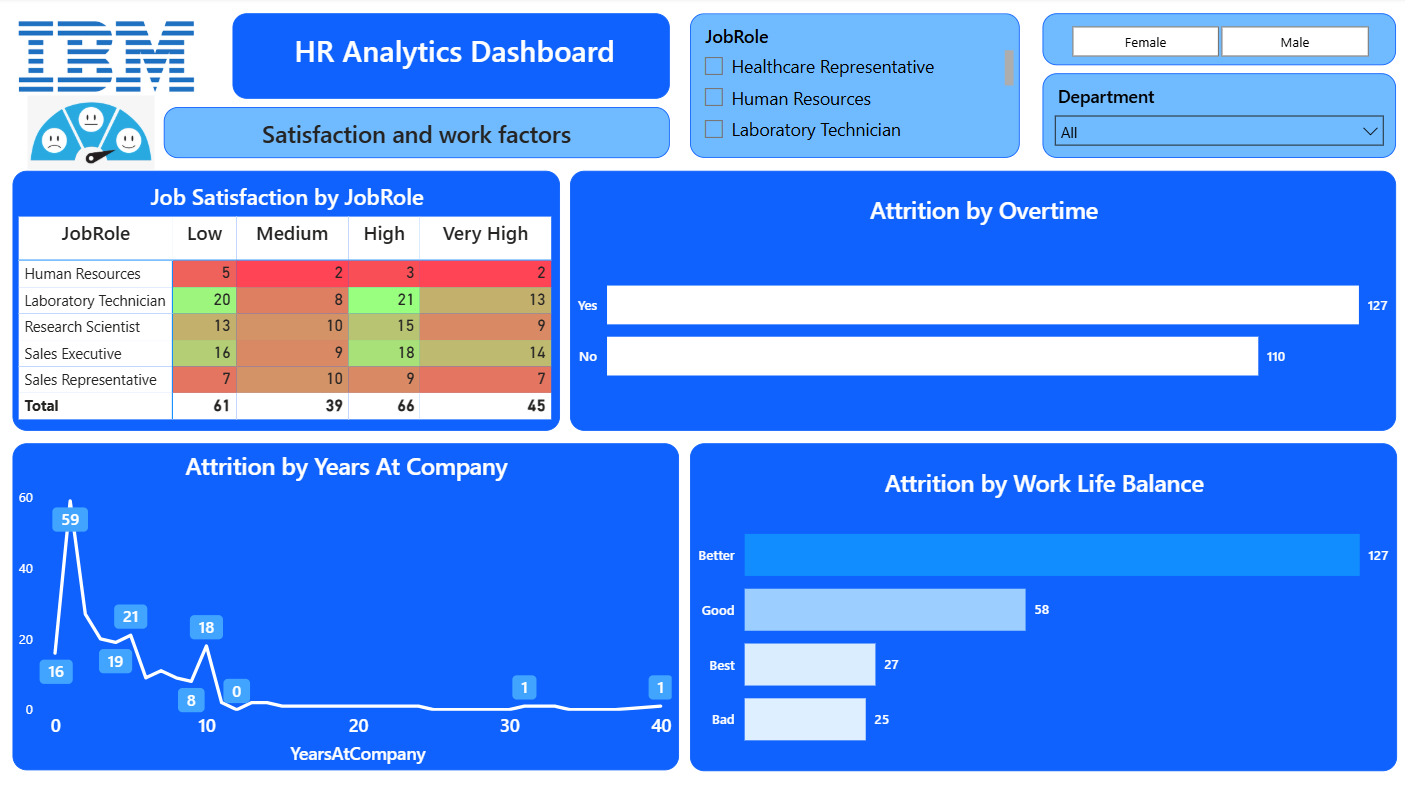

The dashboard page shown, as its layout file describes it:
{"tool":"powerbi","page":{"name":"Satisfaction and work factors","canvas":[1280,720],"ordinal":2},"visuals":[{"type":"textbox","box":[215.7,15,396.4,77.3],"z":0},{"type":"clusteredBarChart","title":"Attrition by Overtime","fields":{"Category":["WA_Fn-UseC_-HR-Employee-Attrition.OverTime"],"Y":["WA_Fn-UseC_-HR-Employee-Attrition.attrition count"]},"box":[521.7,157.7,749.7,235.9],"z":1000},{"type":"pivotTable","title":"Job Satisfaction by JobRole","fields":{"Rows":["WA_Fn-UseC_-HR-Employee-Attrition.JobRole"],"Values":["WA_Fn-UseC_-HR-Employee-Attrition.attrition count"],"Columns":["WA_Fn-UseC_-HR-Employee-Attrition.Satisfaction Level"]},"box":[16,158,497,236],"z":2000},{"type":"image","box":[16.2,0,170.8,108.5],"z":3000},{"type":"clusteredBarChart","title":"Attrition by Work Life Balance ","fields":{"Y":["WA_Fn-UseC_-HR-Employee-Attrition.attrition count"],"Category":["WA_Fn-UseC_-HR-Employee-Attrition.Work LIfe Balance Level"]},"box":[630.4,404.8,641.3,297.5],"z":4000},{"type":"lineChart","title":" Attrition  by Years At Company","fields":{"Y":["WA_Fn-UseC_-HR-Employee-Attrition.attrition count"],"Category":["WA_Fn-UseC_-HR-Employee-Attrition.YearsAtCompany"]},"box":[15.9,404.9,604.5,297.2],"z":5000},{"type":"slicer","fields":{"Values":["WA_Fn-UseC_-HR-Employee-Attrition.JobRole"]},"box":[630.6,14.7,299.4,131.6],"z":6000},{"type":"slicer","fields":{"Values":["WA_Fn-UseC_-HR-Employee-Attrition.Gender"]},"box":[951,14.6,320.7,47.6],"z":7000},{"type":"slicer","fields":{"Values":["WA_Fn-UseC_-HR-Employee-Attrition.Department"]},"box":[951,69.5,320.7,76.8],"z":8000},{"type":"textbox","box":[153,100,459,46],"z":9000},{"type":"image","box":[29,88,115,69],"z":10000}]}

Visuals, with their boxes in screenshot pixels (x1, y1, x2, y2), scaled from the page's 1280x720 canvas onto the 1405x785 screenshot:
textbox: {"x1": 237, "y1": 16, "x2": 672, "y2": 101}
"Attrition by Overtime" clusteredBarChart: {"x1": 573, "y1": 172, "x2": 1396, "y2": 429}
"Job Satisfaction by JobRole" pivotTable: {"x1": 18, "y1": 172, "x2": 563, "y2": 430}
image: {"x1": 18, "y1": 0, "x2": 205, "y2": 118}
"Attrition by Work Life Balance " clusteredBarChart: {"x1": 692, "y1": 441, "x2": 1396, "y2": 766}
" Attrition  by Years At Company" lineChart: {"x1": 17, "y1": 441, "x2": 681, "y2": 765}
slicer - WA_Fn-UseC_-HR-Employee-Attrition.JobRole: {"x1": 692, "y1": 16, "x2": 1021, "y2": 160}
slicer - WA_Fn-UseC_-HR-Employee-Attrition.Gender: {"x1": 1044, "y1": 16, "x2": 1396, "y2": 68}
slicer - WA_Fn-UseC_-HR-Employee-Attrition.Department: {"x1": 1044, "y1": 76, "x2": 1396, "y2": 160}
textbox: {"x1": 168, "y1": 109, "x2": 672, "y2": 159}
image: {"x1": 32, "y1": 96, "x2": 158, "y2": 171}
